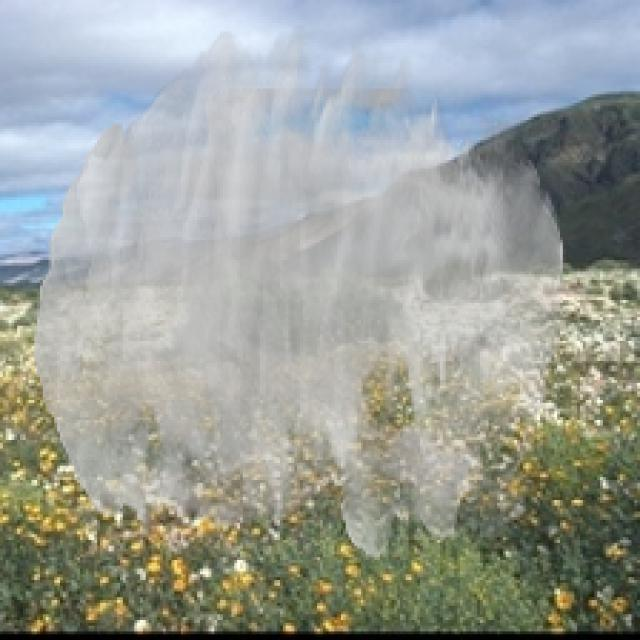smoke: (34, 26, 566, 560)
